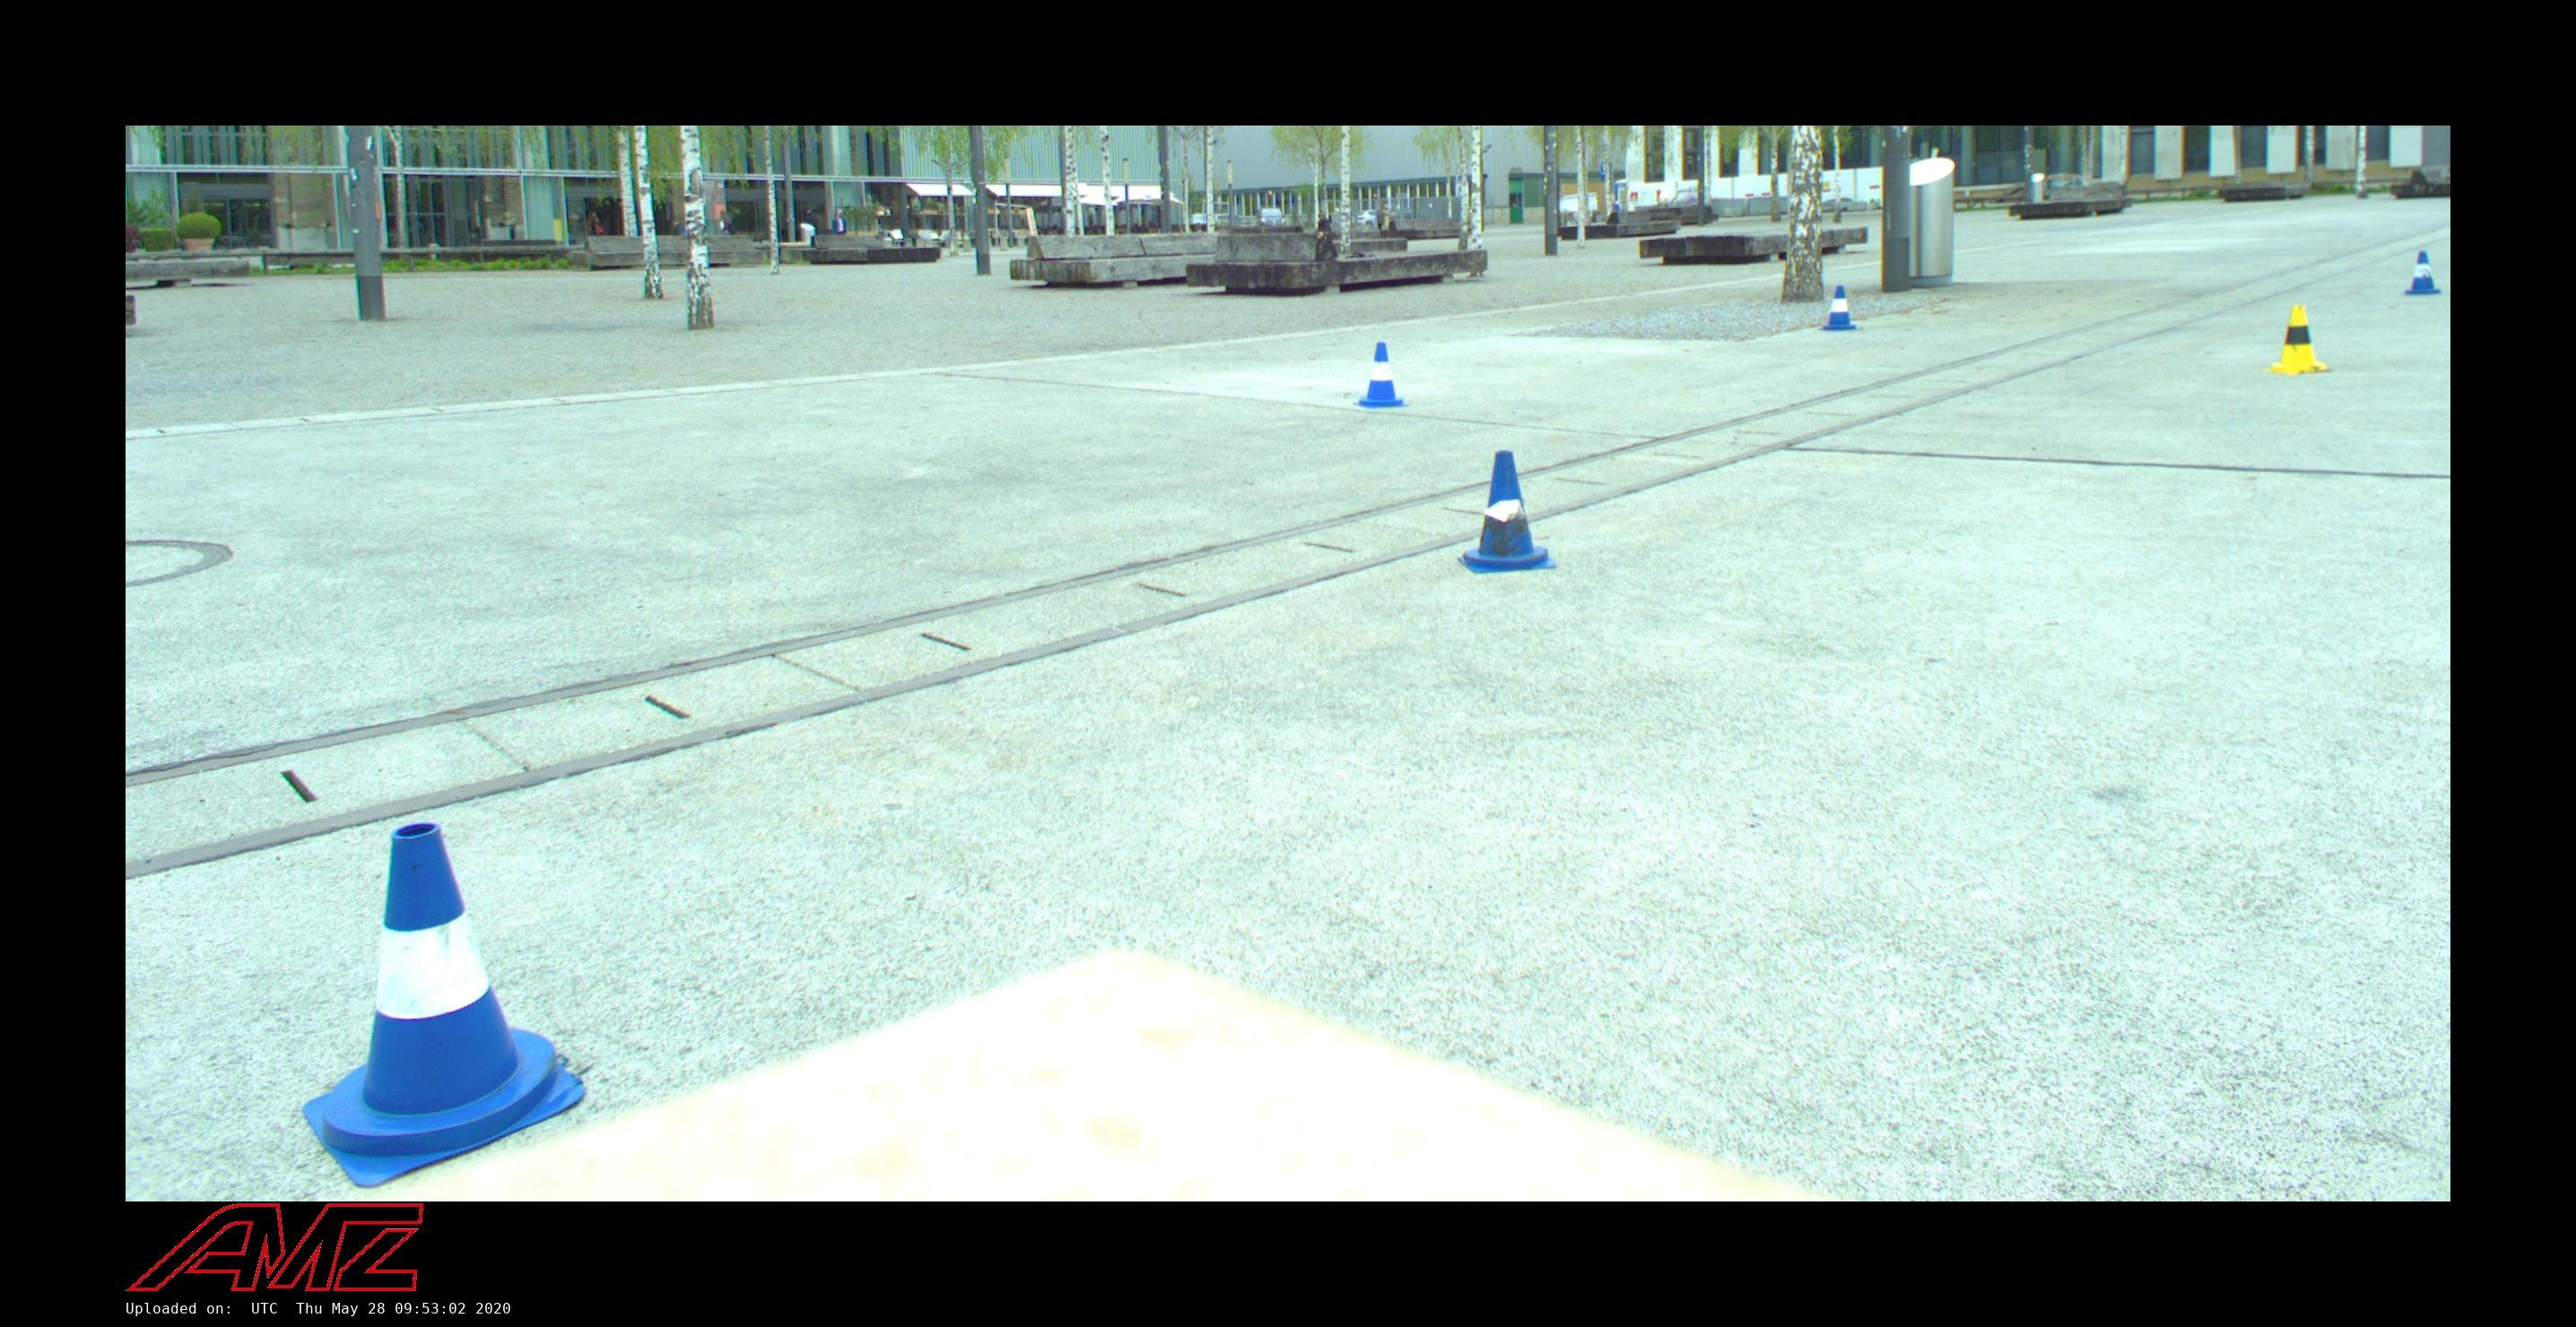blue_cone: (287, 809, 587, 1181), (1460, 452, 1557, 573), (1351, 343, 1411, 410), (2401, 250, 2443, 296), (1819, 285, 1859, 332)
yellow_cone: (2265, 305, 2331, 376)
